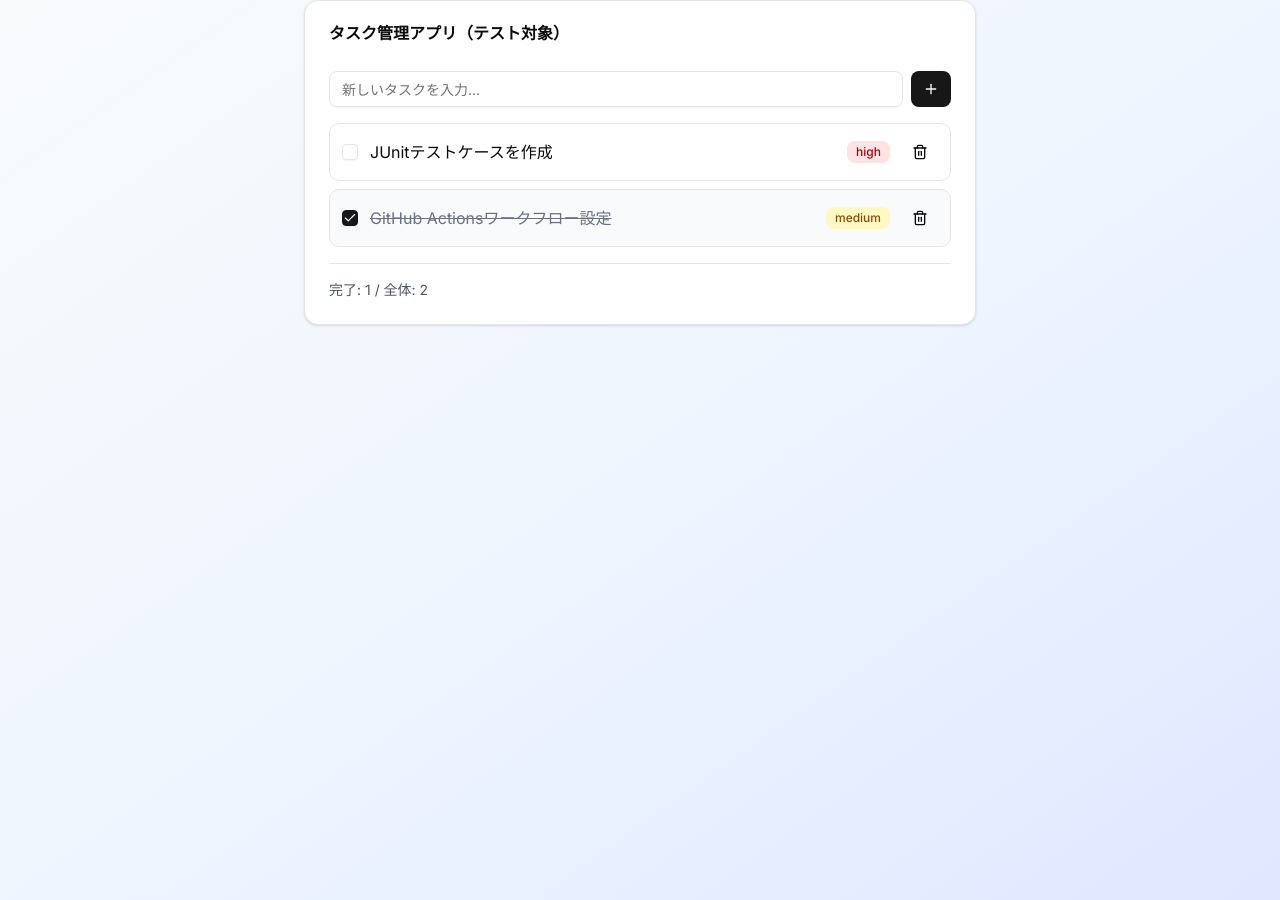
Test case: TaskManager Component › deletes a task when delete button is clicked
Click the button with test id "delete-task-1" at coordinates (920, 152), box [902,136,938,168]
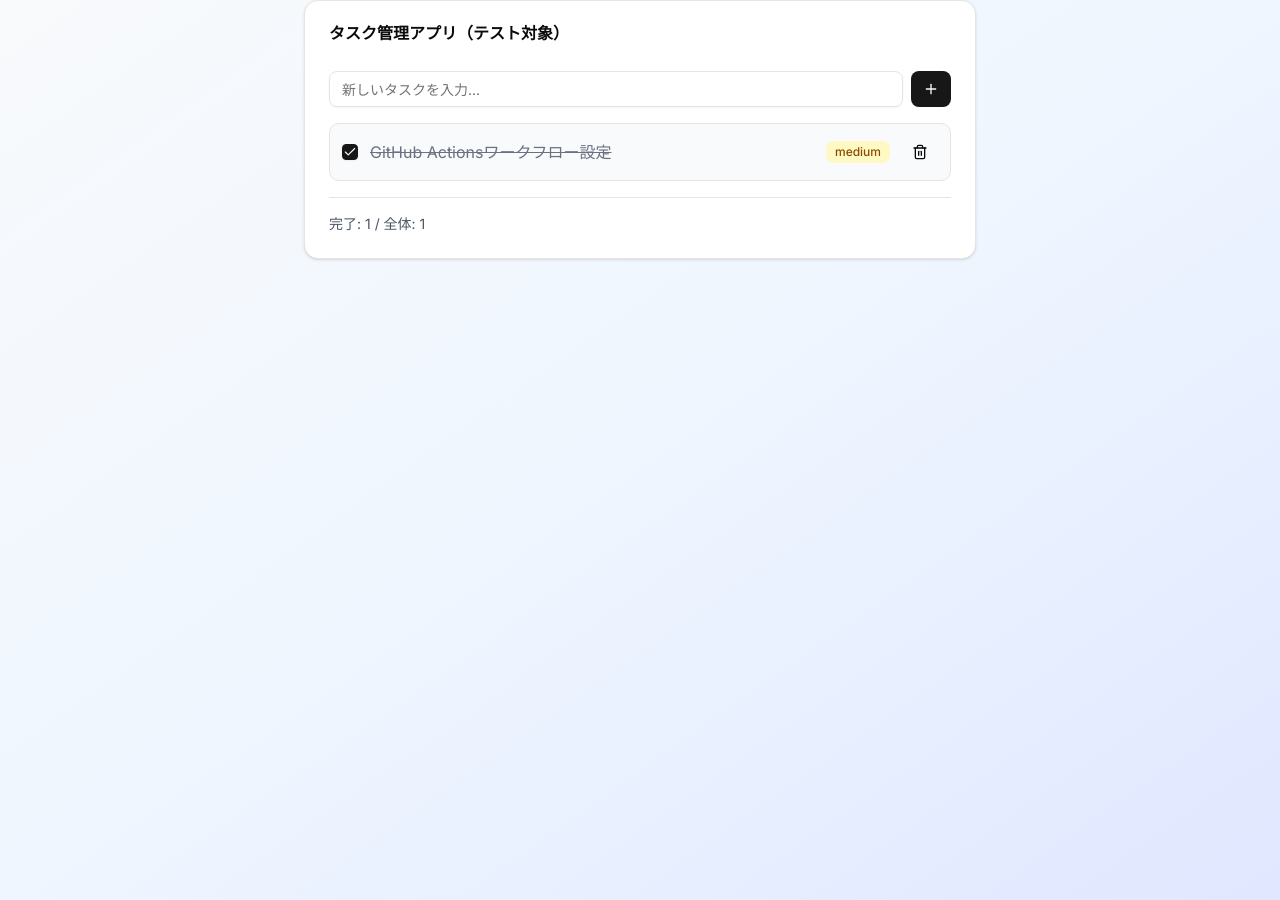
Now the text "JUnitテストケースを作成" is gone
